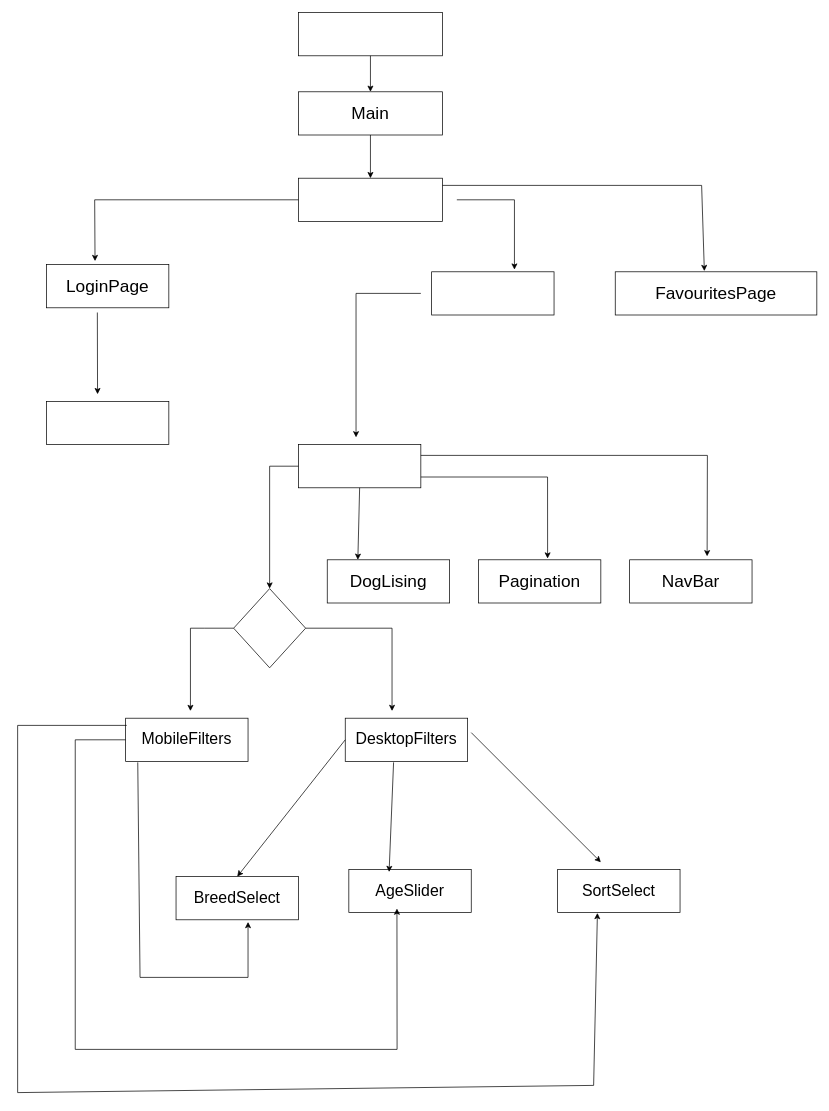
Some shapes in this 829 by 1111 pixel diagram are drawn without their labels. The shapes that lost their labels are listed below. From the top down, each one's box as (x1, y1, x2, y2) in pixels, then its label:
(298, 12, 442, 56): Fetch
(298, 177, 442, 221): React Router
(431, 271, 554, 315): HomePage
(46, 401, 169, 445): LoginForm
(298, 444, 421, 488): Layout
(233, 588, 306, 668): isMobile?
